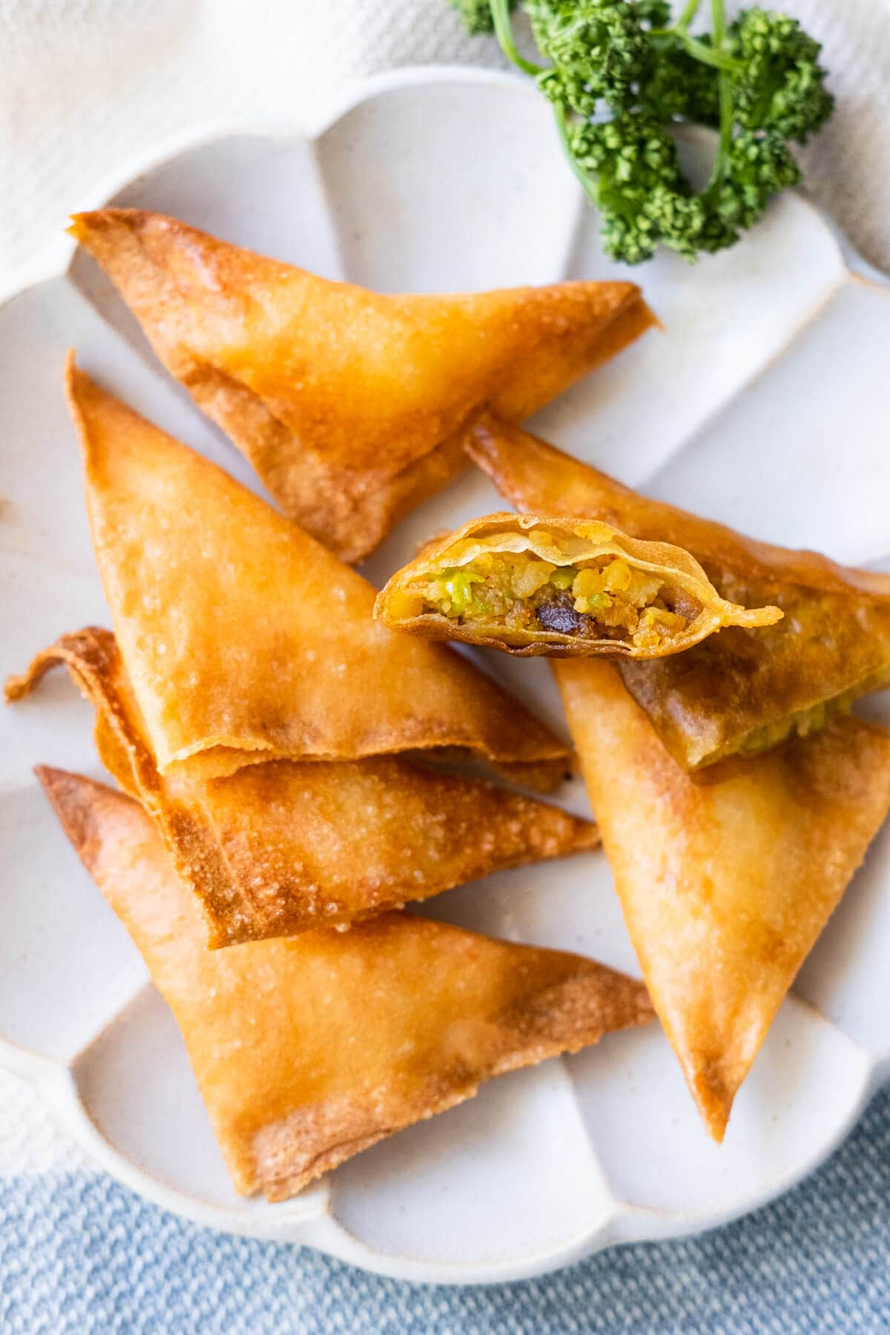samosa: (58, 366, 567, 780), (68, 245, 645, 565), (95, 967, 647, 1216), (642, 720, 889, 1146), (126, 795, 594, 960)
